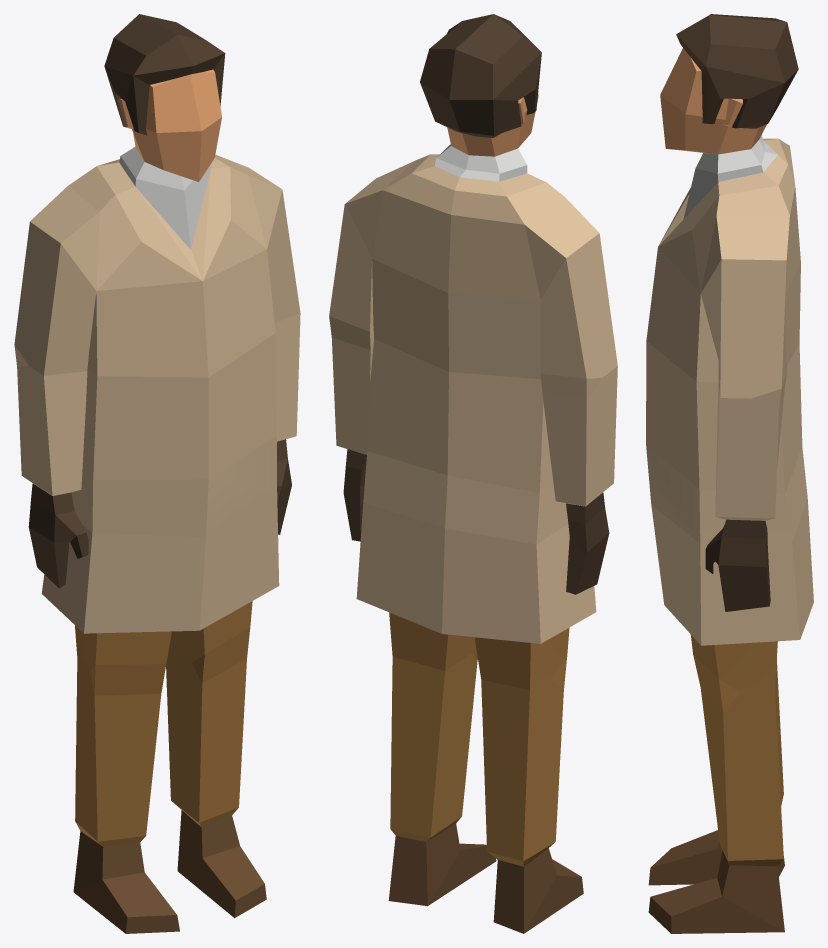
The model's file is people_man-coat.fbx.
The picture shows the model from 3 angles, left to right: view 1: azimuth 30°, elevation 25°; view 2: azimuth 150°, elevation 25°; view 3: azimuth 270°, elevation 25°; orthographic projection.
Visible parts, largest first — view 1: people_man_coat; view 2: people_man_coat; view 3: people_man_coat.
Boxes of the visible parts, left/top/right/bottom form: people_man_coat: left=14, top=14, right=300, bottom=933; people_man_coat: left=329, top=14, right=617, bottom=933; people_man_coat: left=646, top=14, right=813, bottom=933.
Bounding box in the file's own units: 61.88 × 200 × 34.43.
